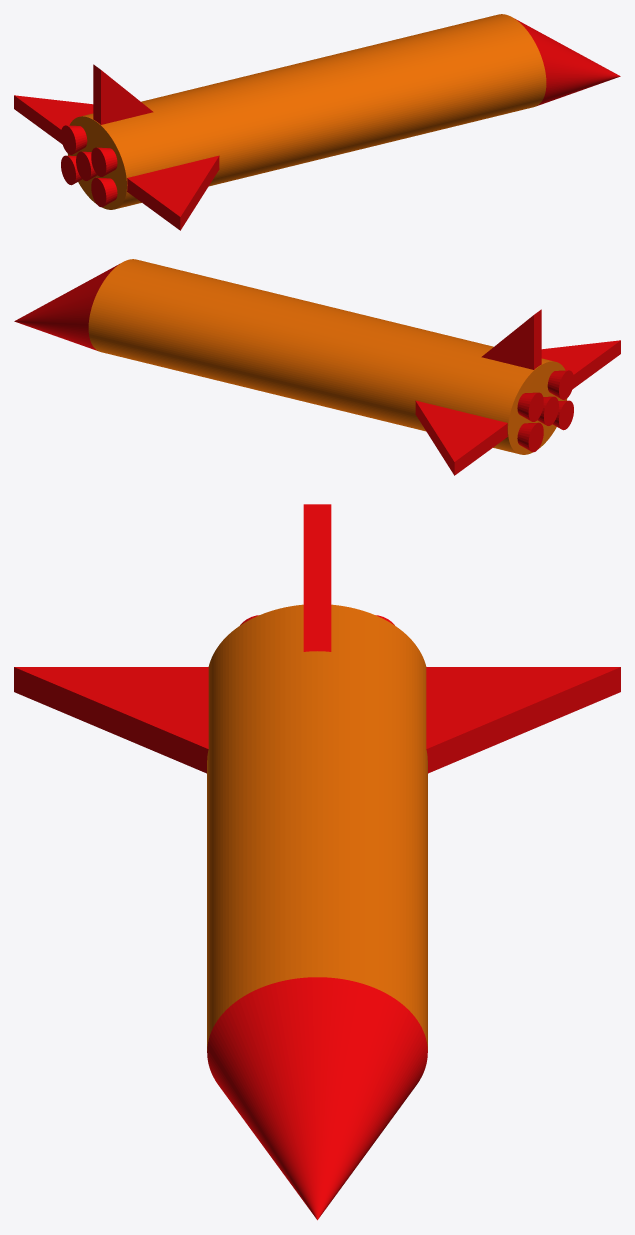
The model's file is simple_rocket.dae.
3 renders of one model, top to bottom at view 1: azimuth 30°, elevation 25°; view 2: azimuth 150°, elevation 25°; view 3: azimuth 270°, elevation 25°, orthographic. The views are drawn at different scales.
Parts seen in each view (by area): view 1: Cylinder.001, Wing right, Cone.001, Wing left, Wing top, Booster.004, Booster.001, Booster.003, Booster, Booster.002; view 2: Cylinder.001, Wing left, Cone.001, Wing right, Wing top, Booster.004, Booster.001, Booster.002, Booster, Booster.003; view 3: Cylinder.001, Cone.001, Wing left, Wing right, Wing top.
Boxes of the visible parts, box(x1,y1,x2,y2) form: Cylinder.001: box(67, 14, 546, 209); Wing right: box(127, 155, 219, 230); Cone.001: box(515, 19, 620, 105); Wing left: box(14, 95, 93, 144); Wing top: box(93, 64, 153, 124); Booster.004: box(91, 147, 117, 176); Booster.001: box(61, 125, 87, 154); Booster.003: box(91, 177, 117, 207); Booster: box(76, 151, 97, 180); Booster.002: box(61, 155, 82, 185); Cylinder.001: box(88, 259, 567, 454); Wing left: box(415, 400, 507, 475); Cone.001: box(14, 264, 119, 350); Wing right: box(541, 340, 620, 389); Wing top: box(481, 309, 541, 369); Booster.004: box(547, 370, 573, 399); Booster.001: box(517, 392, 543, 421); Booster.002: box(517, 422, 543, 452); Booster: box(537, 396, 558, 425); Booster.003: box(552, 400, 573, 430); Cylinder.001: box(207, 604, 427, 1050); Cone.001: box(207, 977, 427, 1220); Wing left: box(426, 667, 620, 773); Wing right: box(14, 667, 208, 773); Wing top: box(303, 504, 331, 651).
Size of what is drawn, in the model's own units: 10.25 by 5.5 by 2.5.
